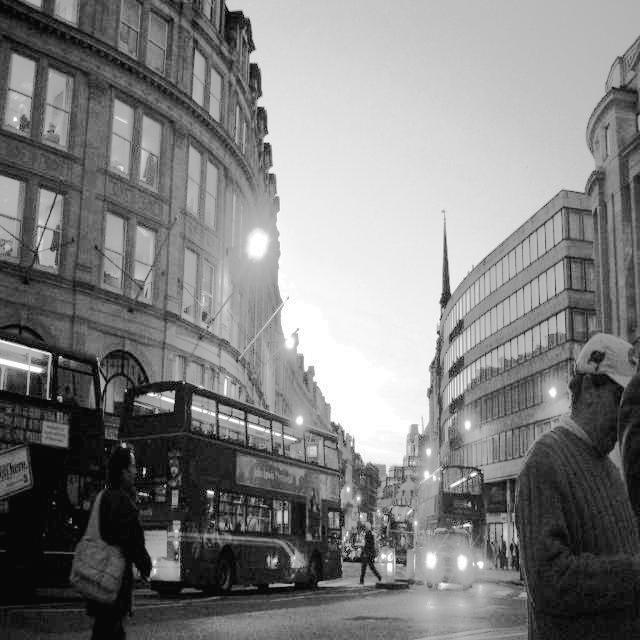Bus: (121, 363, 354, 604), (4, 305, 115, 600), (397, 455, 494, 565)
Car: (421, 519, 487, 598)
